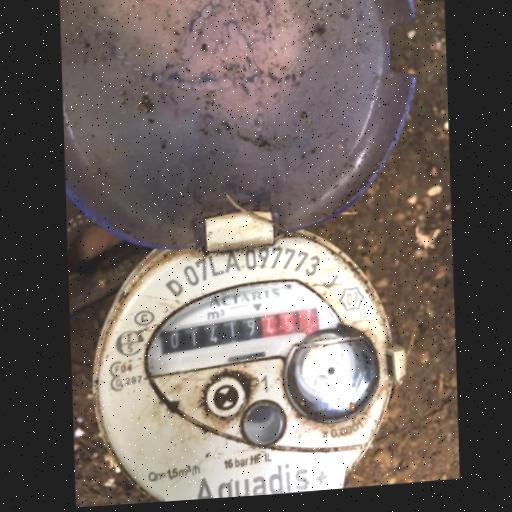0: (168, 330, 181, 353)
1: (185, 327, 199, 350), (225, 319, 238, 343)
4: (261, 315, 276, 338), (206, 324, 220, 347)
5: (279, 311, 294, 334)
7: (299, 308, 318, 333)
9: (242, 317, 257, 340)
border_water_meter_number: (159, 307, 318, 355)
